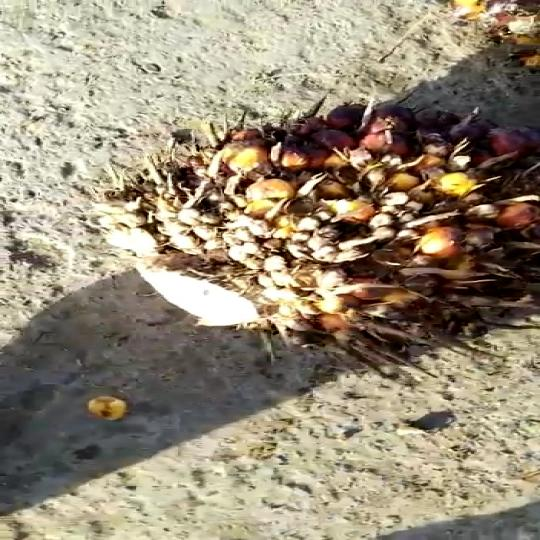masak: (100, 100, 540, 343)
